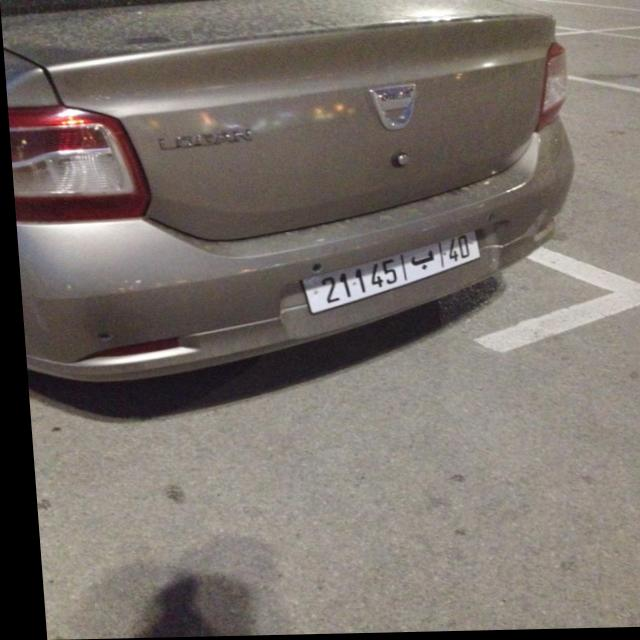License-Plate: (299, 235, 476, 314)
